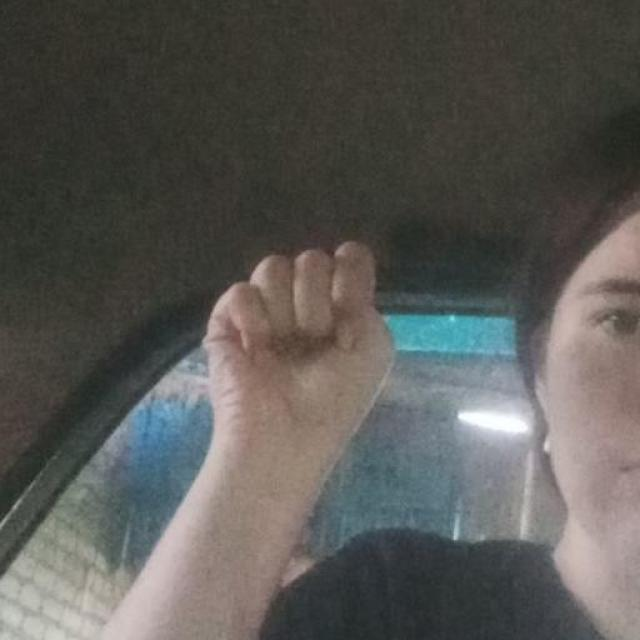hand: (199, 238, 396, 508)
